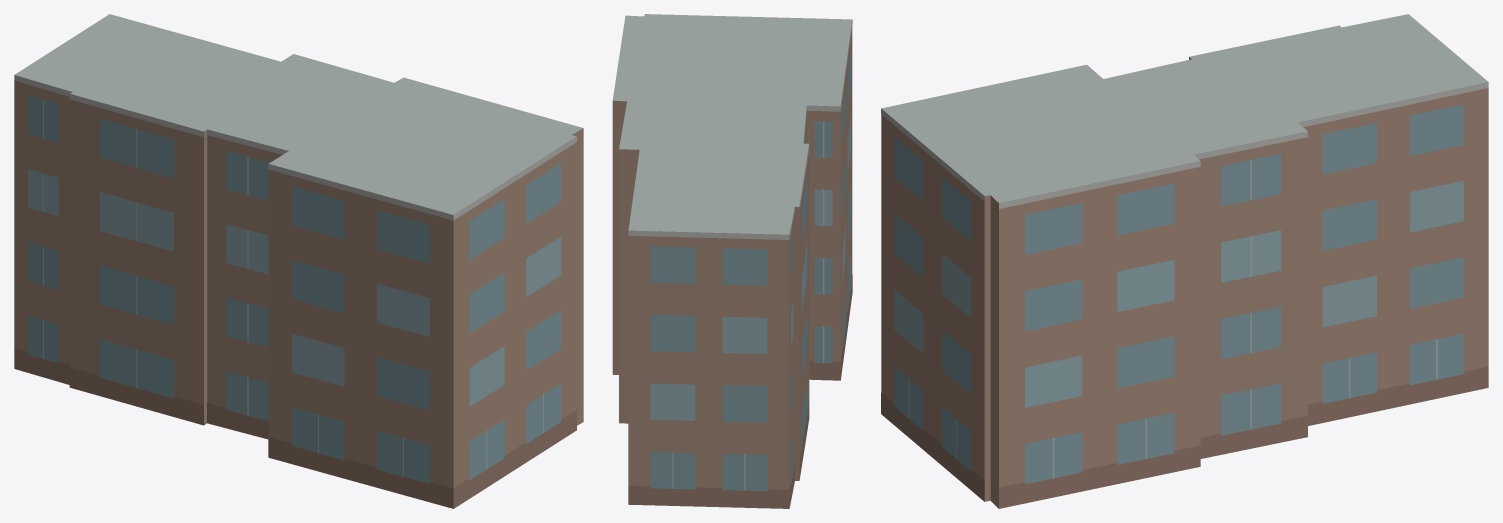
Rendered from survey-upis-32741902.glb.
3 renders of one model, left to right at view 1: azimuth 30°, elevation 25°; view 2: azimuth 150°, elevation 25°; view 3: azimuth 270°, elevation 25°, orthographic. The views are drawn at different scales.
Parts seen in each view (by area): view 1: survey-upis-32741902.tmp; view 2: survey-upis-32741902.tmp; view 3: survey-upis-32741902.tmp.
Boxes of the visible parts, box(x1,y1,x2,y2) form: survey-upis-32741902.tmp: box(14, 14, 583, 508); survey-upis-32741902.tmp: box(612, 14, 852, 508); survey-upis-32741902.tmp: box(881, 14, 1488, 508).
Bounding box in the file's own units: 17 × 12.8 × 23.06.
